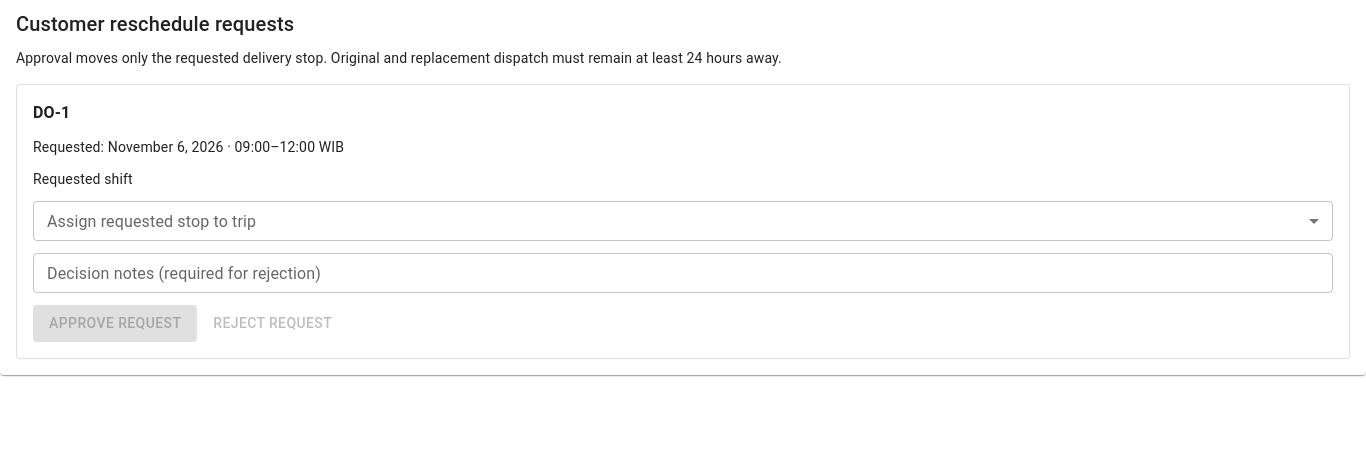
Test case: Dispatcher review › requires rejection reason and exposes backend conflicts
This screenshot has width=1366, height=454.
Expected: the text "DO-1" is shown, x1=33 y1=103 x2=70 y2=122
Expected: the button "Reject request" is disabled, x1=205 y1=305 x2=340 y2=342
Type "No capacity" into the field labelled "Decision notes (required for rejection)".
click(683, 273); type("No capacity")  # box x1=33 y1=253 x2=1333 y2=293
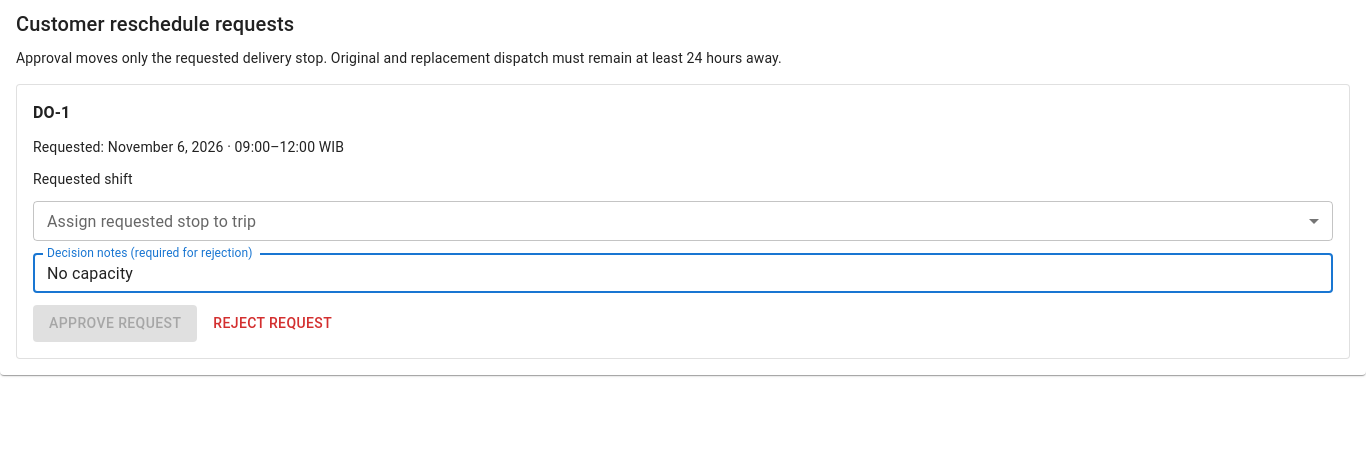
Click the button "Reject request".
click(273, 323)  # box x1=205 y1=305 x2=340 y2=342
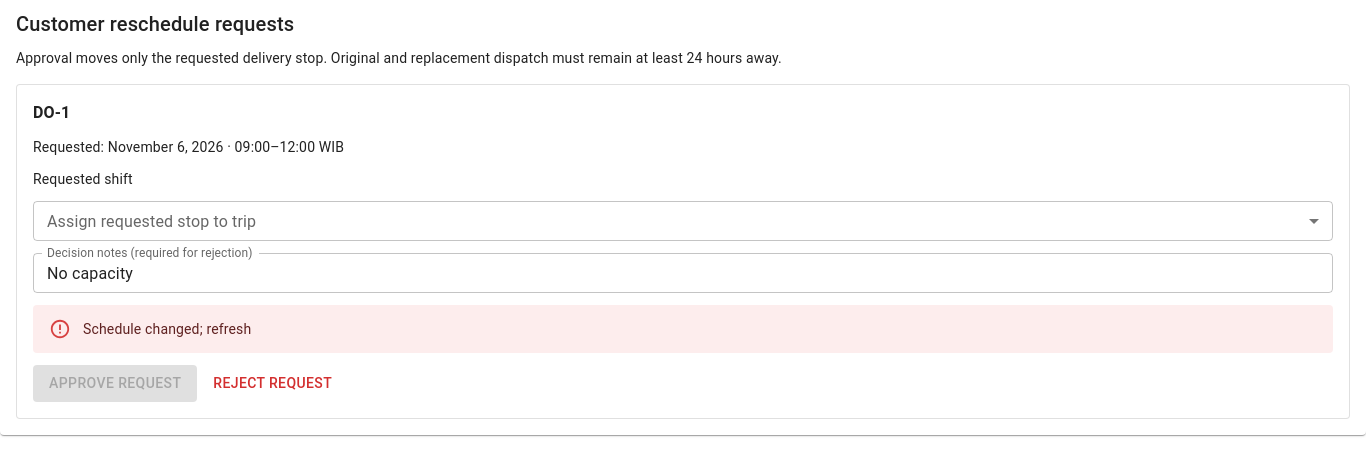
Expected: the text "Schedule changed; refresh" is shown, x1=83 y1=321 x2=251 y2=337
